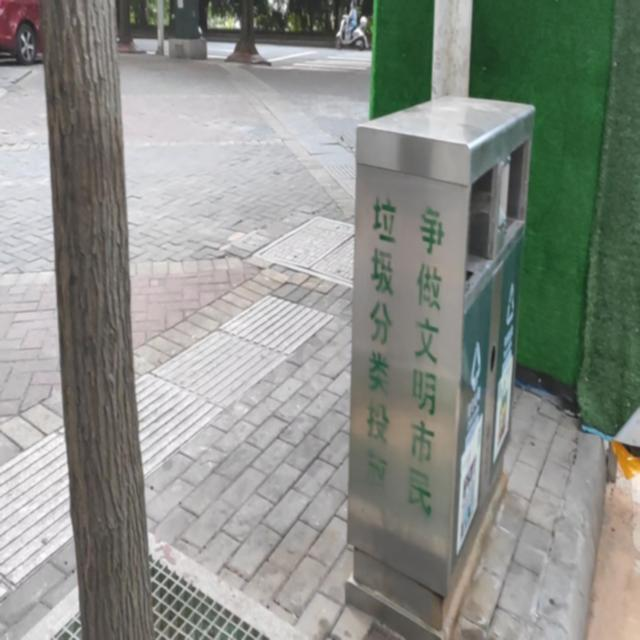ash bin: (342, 91, 538, 638)
motorbike: (335, 5, 368, 51)
